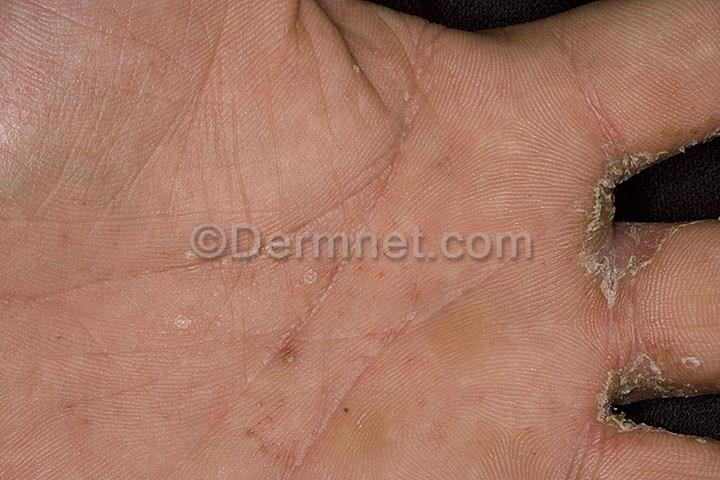Eczema: (580, 184, 668, 314), (595, 367, 672, 433), (265, 318, 333, 382), (177, 312, 207, 344), (294, 271, 330, 295)
